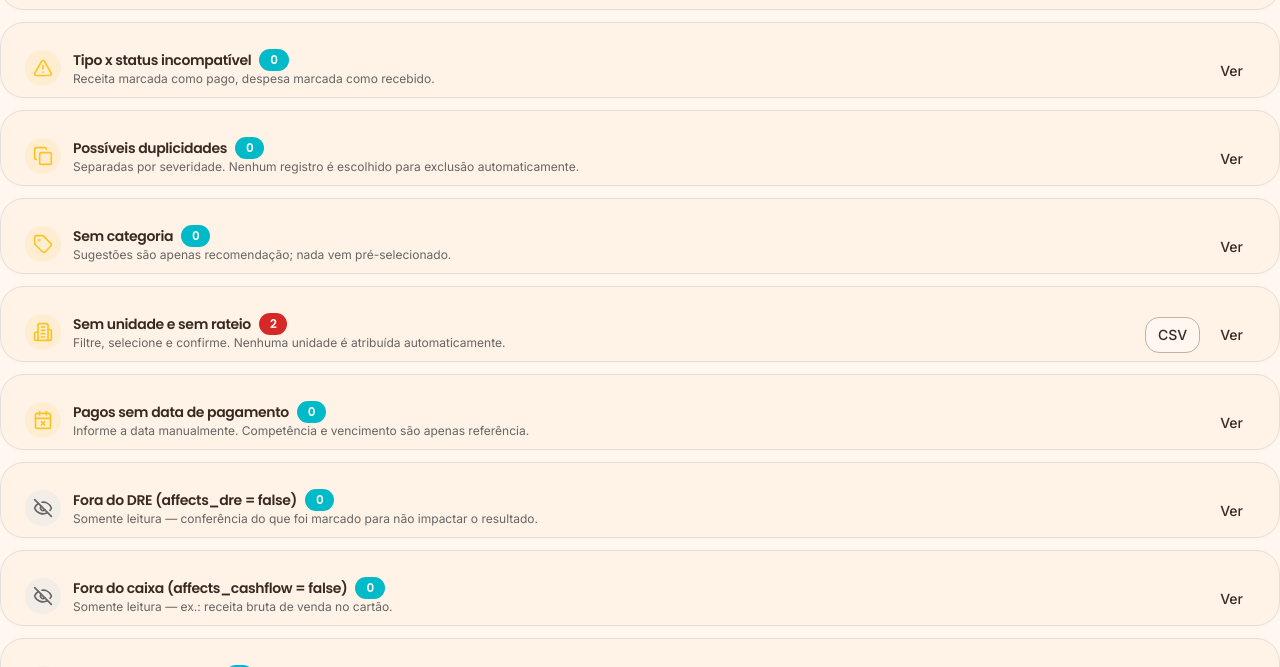
it: seções extraídas (estado compartilhado fica na tela) › os filtros de "sem unidade" sobrevivem a recarregar a análise (estado fica na tela)
The width and height of the screenshot is (1280, 667).
Earlier steps of the test are not shown.
(page scrolled)
Click the button "Ver" in the row of "Sem unidade e sem rateio". click: x=1232, y=335
box: [1208,317,1255,353]
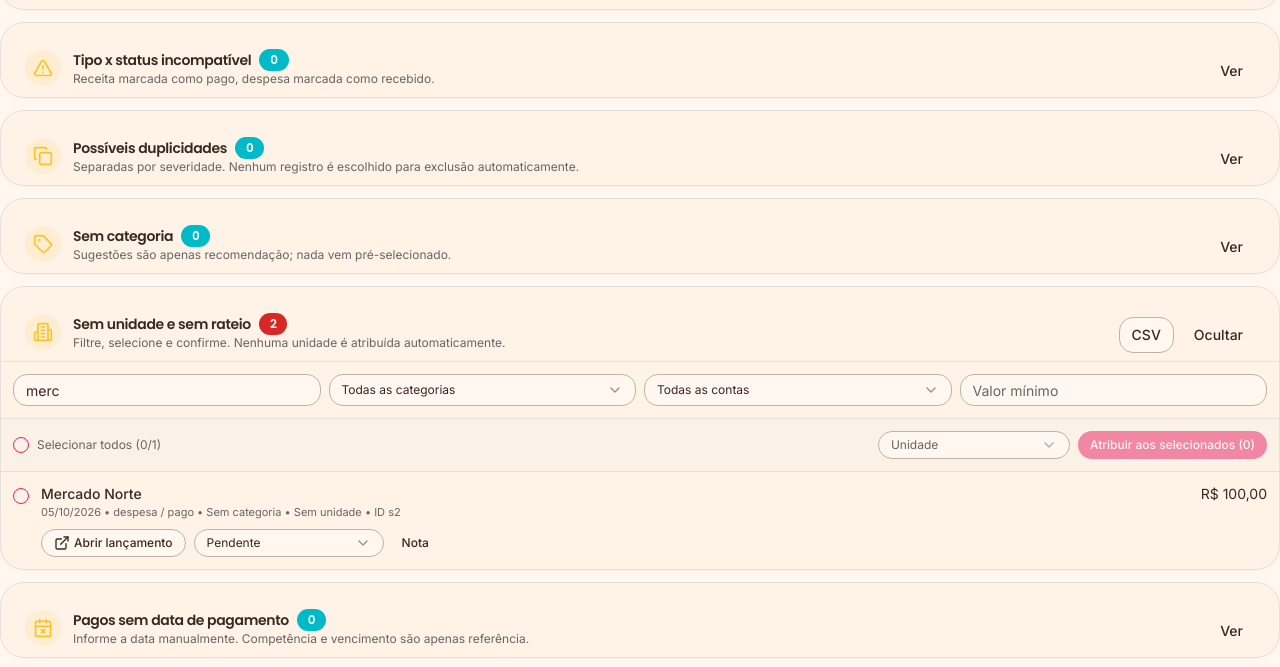
Expected: the field with placeholder "Descrição" holds "merc", [13,374,320,406]
